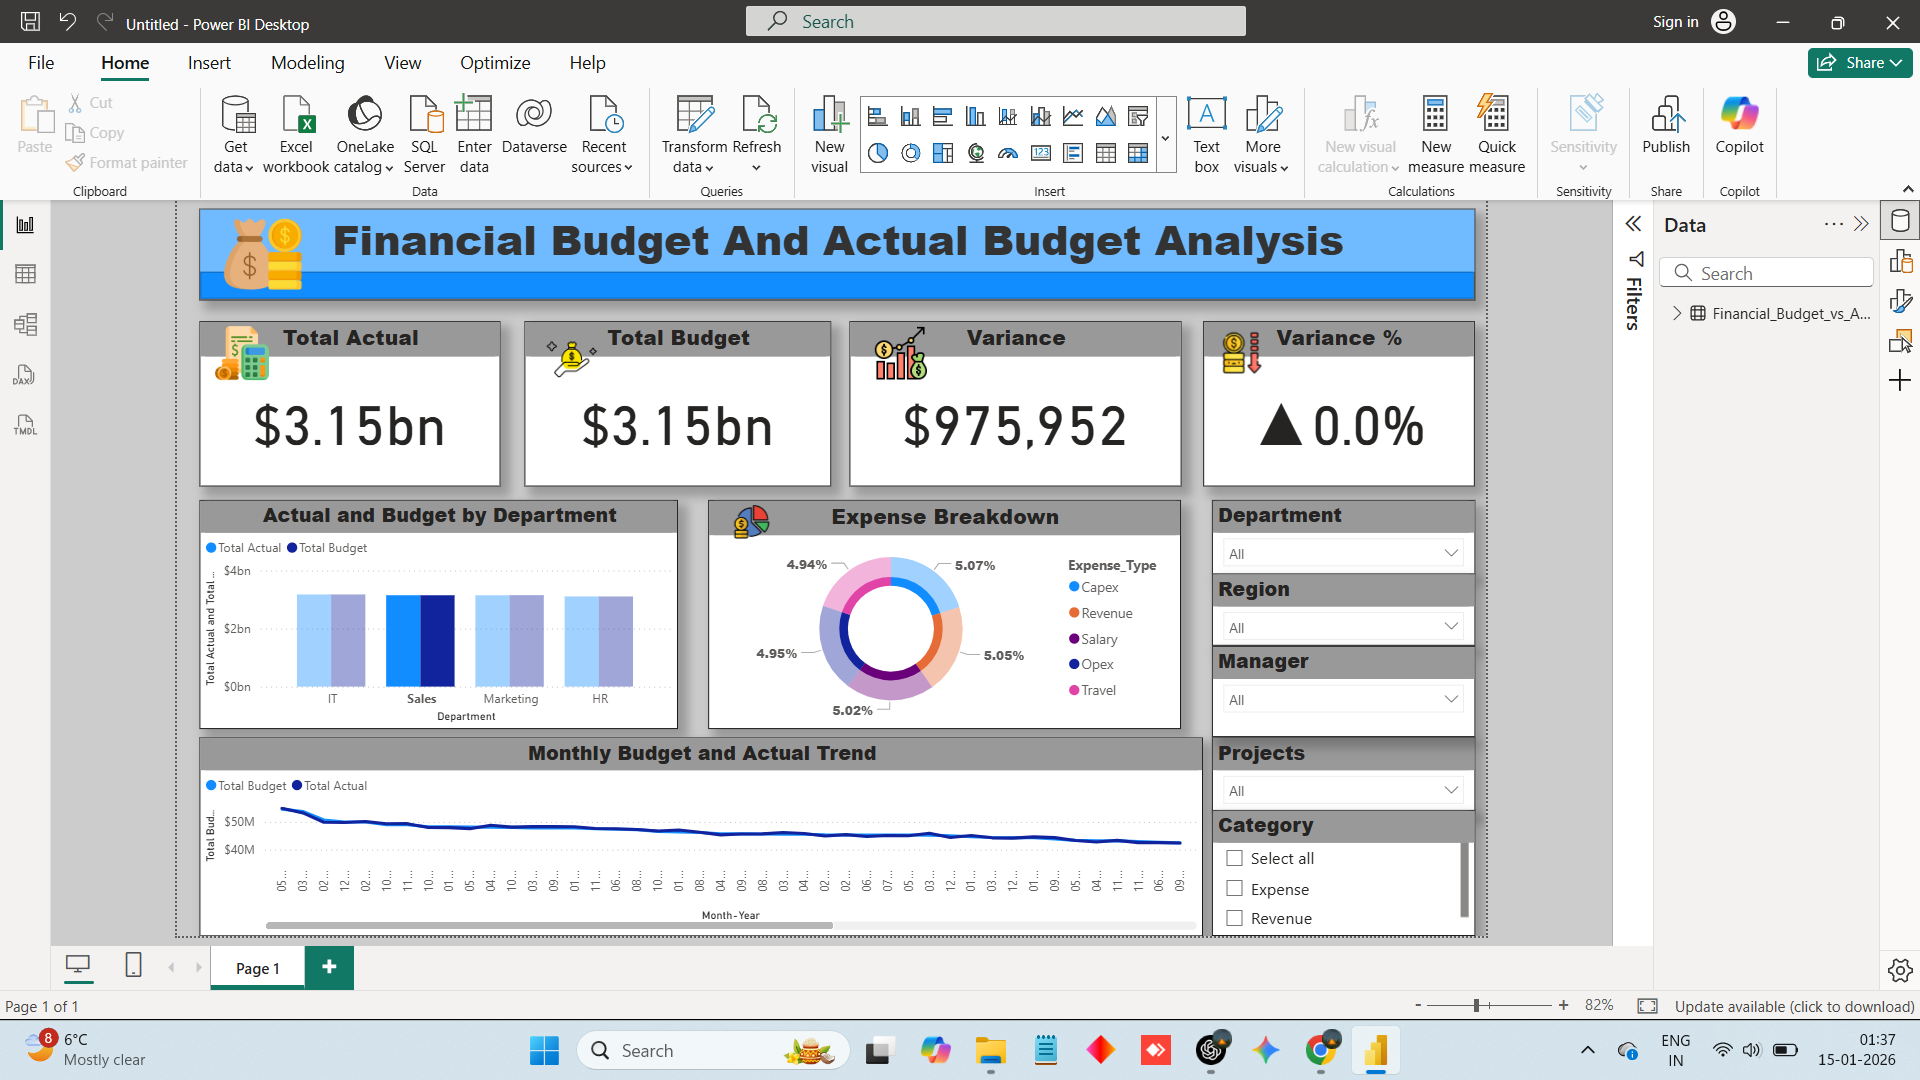

The page's visual inventory and layout, read from the dashboard file:
{"tool":"powerbi","page":{"name":"Page 1","canvas":[1280,720],"ordinal":0},"visuals":[{"type":"card","title":"Total Actual","fields":{"Values":["Financial_Budget_vs_Actual.Total Actual"]},"box":[21.6,118.3,294.3,161.6],"z":0},{"type":"card","title":"Total Budget","fields":{"Values":["Financial_Budget_vs_Actual.Total Budget"]},"box":[340.5,118.3,300.1,161.6],"z":1000},{"type":"card","title":"Variance %","fields":{"Values":["Financial_Budget_vs_Actual.% Variance"]},"box":[1004.2,118.3,265.5,161.6],"z":2000},{"type":"card","title":"Variance","fields":{"Values":["Financial_Budget_vs_Actual.Variance Measure"]},"box":[657.9,118.3,324.6,161.6],"z":3000},{"type":"shape","title":"Financial Budget And Actual Budget Analysis","box":[21.6,8.7,1248,89.5],"z":4000},{"type":"clusteredColumnChart","title":"Actual and Budget by Department","fields":{"Category":["Financial_Budget_vs_Actual.Department"],"Y":["Financial_Budget_vs_Actual.Total Actual","Financial_Budget_vs_Actual.Total Budget"]},"box":[22,293.5,468.3,223.8],"z":5000},{"type":"donutChart","title":"Expense Breakdown","fields":{"Category":["Financial_Budget_vs_Actual.Expense_Type"],"Y":["Financial_Budget_vs_Actual.Total Actual"]},"box":[519.7,293.5,462.2,223.8],"z":6000},{"type":"lineChart","title":"Monthly Budget and Actual Trend","fields":{"Category":["Financial_Budget_vs_Actual.Month-Year"],"Y":["Financial_Budget_vs_Actual.Total Budget","Financial_Budget_vs_Actual.Total Actual"]},"box":[22,525.8,981.9,194.4],"z":7000},{"type":"slicer","title":"Department","fields":{"Values":["Financial_Budget_vs_Actual.Department"]},"box":[1012.9,293.5,257.3,72.5],"z":8000},{"type":"slicer","title":"Region","fields":{"Values":["Financial_Budget_vs_Actual.Region"]},"box":[1012.9,366,257.3,70.7],"z":9000},{"type":"slicer","title":"Projects","fields":{"Values":["Financial_Budget_vs_Actual.Project"]},"box":[1012.9,525.5,257.3,74.3],"z":10000},{"type":"slicer","title":"Manager","fields":{"Values":["Financial_Budget_vs_Actual.Manager"]},"box":[1012.9,436.7,257.3,88.8],"z":11000},{"type":"slicer","title":"Category","fields":{"Values":["Financial_Budget_vs_Actual.Category"]},"box":[1012.9,596.2,257.3,123.2],"z":13000},{"type":"image","box":[22,8.6,124.7,89.3],"z":13001},{"type":"image","box":[539.3,280,47.7,69.7],"z":13002},{"type":"image","box":[22,118.6,83.2,62.4],"z":13003},{"type":"image","box":[1012.5,124.7,59.9,50.1],"z":13004},{"type":"image","box":[673.8,118.6,68.5,62.4],"z":13005},{"type":"image","box":[352.2,118.6,68.5,74.6],"z":13006}]}

Visuals, with their boxes on the page's 1280x720 design canvas (x1, y1, x2, y2). These are canvas units, not pixel positions in the 1920x1080 screenshot, which may show the page scaled, cropped or inside an application window:
"Total Actual" card: 22:118:316:280
"Total Budget" card: 340:118:641:280
"Variance %" card: 1004:118:1270:280
"Variance" card: 658:118:982:280
"Financial Budget And Actual Budget Analysis" shape: 22:9:1270:98
"Actual and Budget by Department" clusteredColumnChart: 22:294:490:517
"Expense Breakdown" donutChart: 520:294:982:517
"Monthly Budget and Actual Trend" lineChart: 22:526:1004:720
"Department" slicer: 1013:294:1270:366
"Region" slicer: 1013:366:1270:437
"Projects" slicer: 1013:526:1270:600
"Manager" slicer: 1013:437:1270:526
"Category" slicer: 1013:596:1270:719
image: 22:9:147:98
image: 539:280:587:350
image: 22:119:105:181
image: 1012:125:1072:175
image: 674:119:742:181
image: 352:119:421:193
